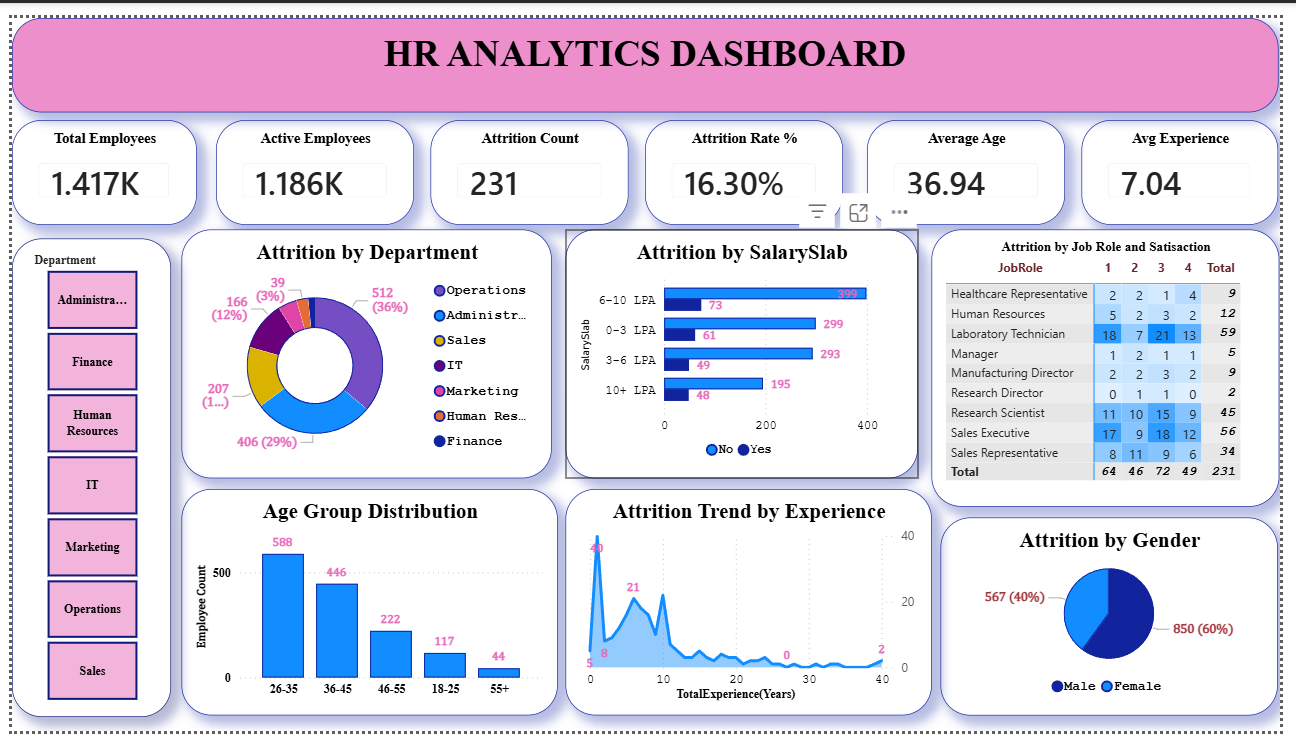

This screenshot's page, from the dashboard's own definition file:
{"tool":"powerbi","page":{"name":"Page 1","canvas":[1280,720],"ordinal":0},"visuals":[{"type":"textbox","box":[0,0,1279.2,95],"z":0},{"type":"cardVisual","title":"Total Employees","fields":{"Data":["CountNonNull(HR_Analytics-4.EmpID)"]},"box":[0,103,186.4,106.1],"z":1},{"type":"cardVisual","title":"Active Employees","fields":{"Data":["CountNonNull(HR_Analytics-4.EmployeeCount)"]},"box":[206.1,103,200,106.1],"z":2},{"type":"cardVisual","title":"Attrition Rate %","fields":{"Data":["HR_Analytics-4.Attrition Rate %"]},"box":[639.4,103,200,106.1],"z":3},{"type":"cardVisual","title":"Attrition Count","fields":{"Data":["Sum(HR_Analytics-4.Arrtition count)"]},"box":[422.7,103,200,106.1],"z":4},{"type":"cardVisual","title":"Avg Experience","fields":{"Data":["Avg(HR_Analytics-4.YearsatCompany)"]},"box":[1080.3,103,198.5,106.1],"z":6},{"type":"cardVisual","title":"Average Age ","fields":{"Data":["Avg(HR_Analytics-4.Age)"]},"box":[863.6,103,200,106.1],"z":7},{"type":"donutChart","title":"Attrition by Department","fields":{"Category":["HR_Analytics-4.Department"],"Y":["CountNonNull(HR_Analytics-4.Attrition)"]},"box":[171.2,213.6,374.2,251.5],"z":8},{"type":"clusteredBarChart","title":"Attrition by SalarySlab ","fields":{"Category":["HR_Analytics-4.SalarySlab"],"Series":["HR_Analytics-4.Attrition"],"Y":["CountNonNull(HR_Analytics-4.EmpID)"]},"box":[559.1,213.6,356.1,251.5],"z":9},{"type":"pivotTable","title":"Attrition by Job Role and Satisaction","fields":{"Columns":["HR_Analytics-4.JobSatisfaction"],"Rows":["HR_Analytics-4.JobRole"],"Values":["Sum(HR_Analytics-4.Arrtition count)"]},"box":[928.8,213.6,351.5,280.3],"z":10},{"type":"columnChart","title":"Age Group Distribution","fields":{"Category":["HR_Analytics-4.AgeGroup"],"Y":["Sum(HR_Analytics-4.EmployeeCount)"]},"box":[171.2,475.8,380.3,228.8],"z":11},{"type":"pieChart","title":"Attrition by Gender","fields":{"Category":["HR_Analytics-4.Gender"],"Y":["CountNonNull(HR_Analytics-4.Attrition)"]},"box":[937.9,504.5,340.9,200],"z":12},{"type":"areaChart","title":"Attrition Trend by Experience","fields":{"Category":["HR_Analytics-4.TotalExperience(Years)"],"Y2":["Sum(HR_Analytics-4.Arrtition count)"]},"box":[559.1,475.8,369.7,228.8],"z":13},{"type":"slicer","fields":{"Values":["HR_Analytics-4.Department"]},"box":[0,222.7,160.6,483.3],"z":14}]}

Visuals, with their boxes in screenshot pixels (x1, y1, x2, y2), scaled from the page's 1280x720 canvas onto the 1296x750 screenshot:
textbox: select_region(0, 0, 1295, 99)
"Total Employees" cardVisual: select_region(0, 107, 189, 218)
"Active Employees" cardVisual: select_region(209, 107, 411, 218)
"Attrition Rate %" cardVisual: select_region(647, 107, 850, 218)
"Attrition Count" cardVisual: select_region(428, 107, 630, 218)
"Avg Experience" cardVisual: select_region(1094, 107, 1295, 218)
"Average Age " cardVisual: select_region(874, 107, 1077, 218)
"Attrition by Department" donutChart: select_region(173, 222, 552, 484)
"Attrition by SalarySlab " clusteredBarChart: select_region(566, 222, 927, 484)
"Attrition by Job Role and Satisaction" pivotTable: select_region(940, 222, 1295, 514)
"Age Group Distribution" columnChart: select_region(173, 496, 558, 734)
"Attrition by Gender" pieChart: select_region(950, 526, 1295, 734)
"Attrition Trend by Experience" areaChart: select_region(566, 496, 940, 734)
slicer - HR_Analytics-4.Department: select_region(0, 232, 163, 735)
